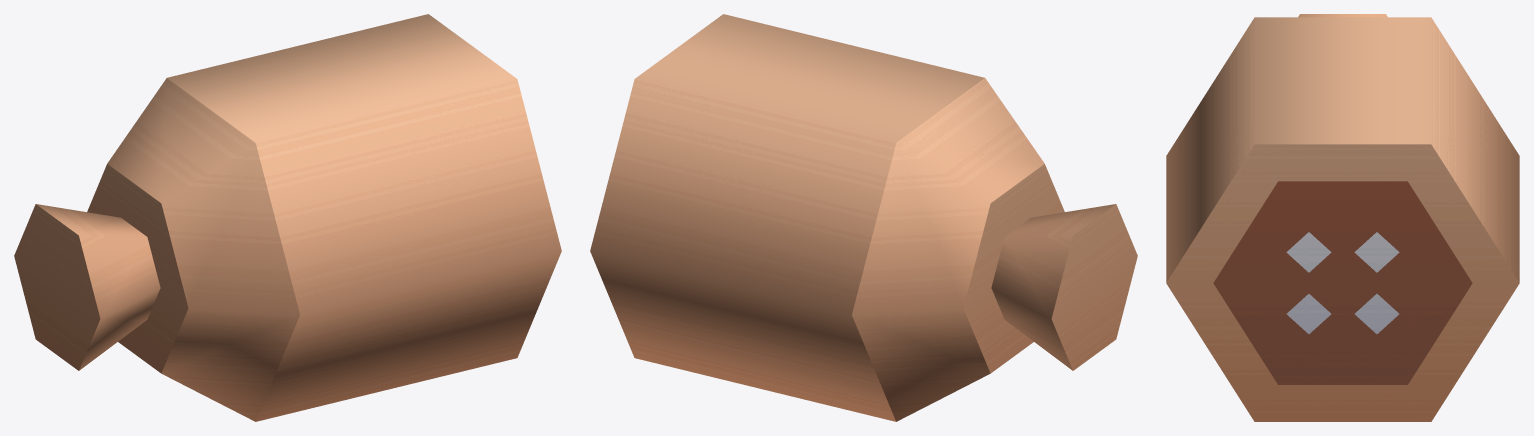
The model's file is sausage-half.glb.
3 renders of one model, left to right at view 1: azimuth 30°, elevation 25°; view 2: azimuth 150°, elevation 25°; view 3: azimuth 270°, elevation 25°, orthographic.
Parts seen in each view (by area): view 1: sausage-half; view 2: sausage-half; view 3: sausage-half.
Part boxes in pixels (bbox=[...]): sausage-half: bbox=[14, 14, 561, 421]; sausage-half: bbox=[590, 14, 1137, 421]; sausage-half: bbox=[1166, 14, 1519, 421].
Size of the model in its own units: 0.1853 by 0.1189 by 0.1373.
1 material, 1 textured.
